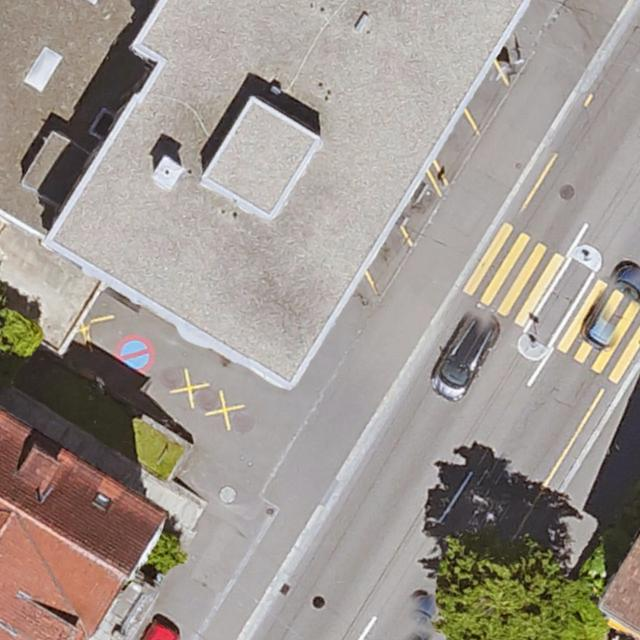tree: (438, 539, 606, 640), (0, 308, 41, 358), (150, 532, 184, 571)
